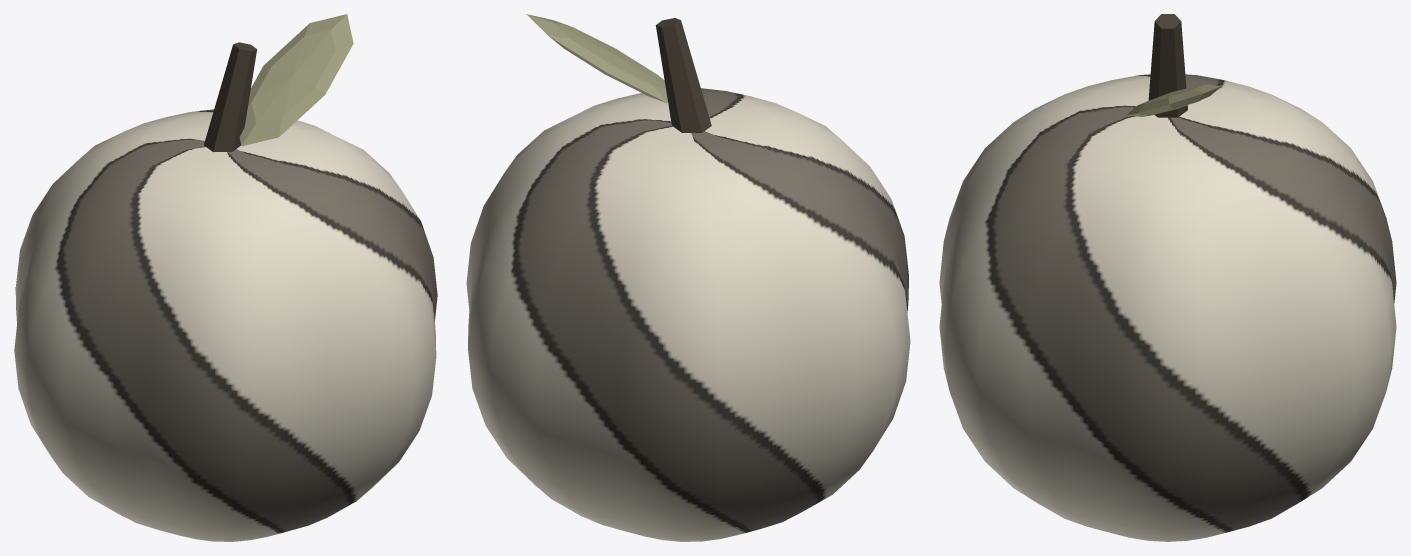
Rendered from Fruit_GuraGura.fbx.
3 renders of one model, left to right at view 1: azimuth 30°, elevation 25°; view 2: azimuth 150°, elevation 25°; view 3: azimuth 270°, elevation 25°, orthographic. The views are drawn at different scales.
Visible parts, largest first — view 1: Fruit_GuraGura; view 2: Fruit_GuraGura; view 3: Fruit_GuraGura.
Boxes of the visible parts, bbox=[...] form: Fruit_GuraGura: bbox=[14, 14, 437, 541]; Fruit_GuraGura: bbox=[466, 14, 910, 541]; Fruit_GuraGura: bbox=[939, 14, 1396, 541].
Size of the model in its own units: 1.68 by 1.9 by 1.54.
Materials: 1 (1 with a texture image).
